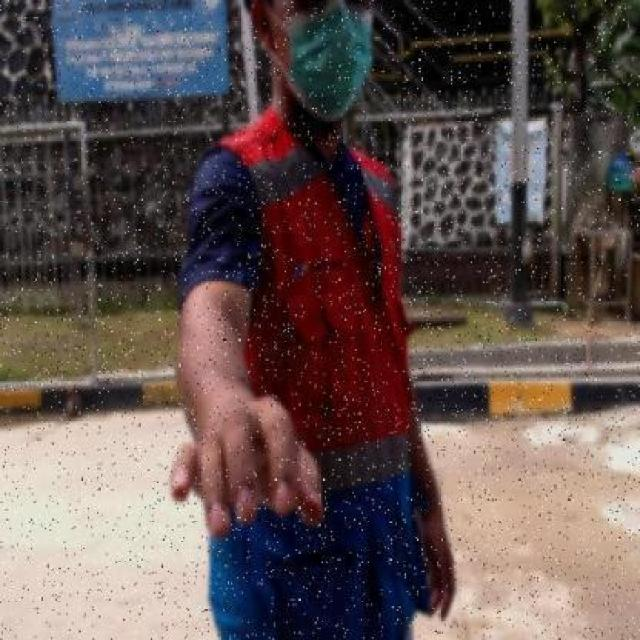Mask: (284, 9, 378, 122)
